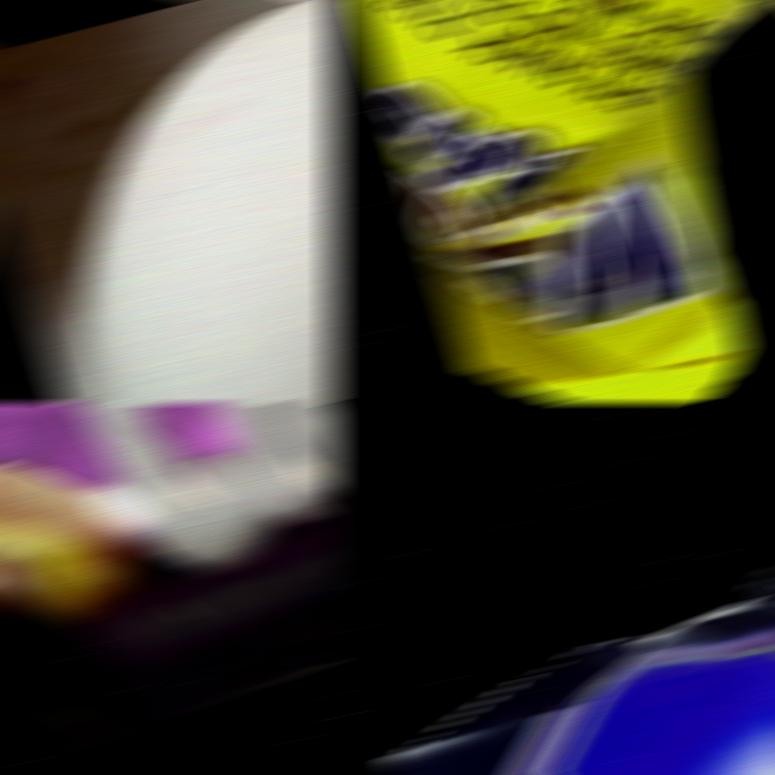Moby Caramel: (351, 1, 770, 402)
choco mucho: (0, 404, 340, 767)
egg: (0, 1, 339, 402)
piattos cheese: (382, 570, 775, 774)
